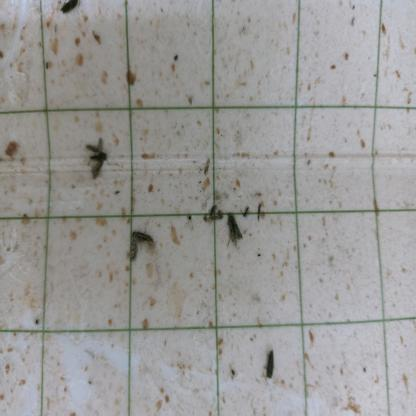prays_oleae: (83, 136, 112, 179), (130, 224, 154, 266), (225, 214, 243, 248), (202, 198, 223, 224), (264, 350, 278, 381), (59, 2, 80, 21)
